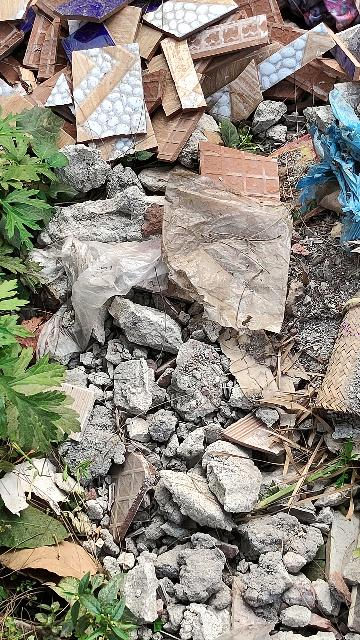polythene: (164, 168, 299, 341)
